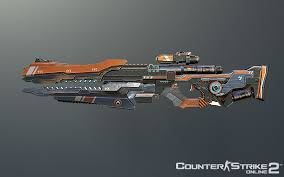gun: (17, 51, 269, 114)
